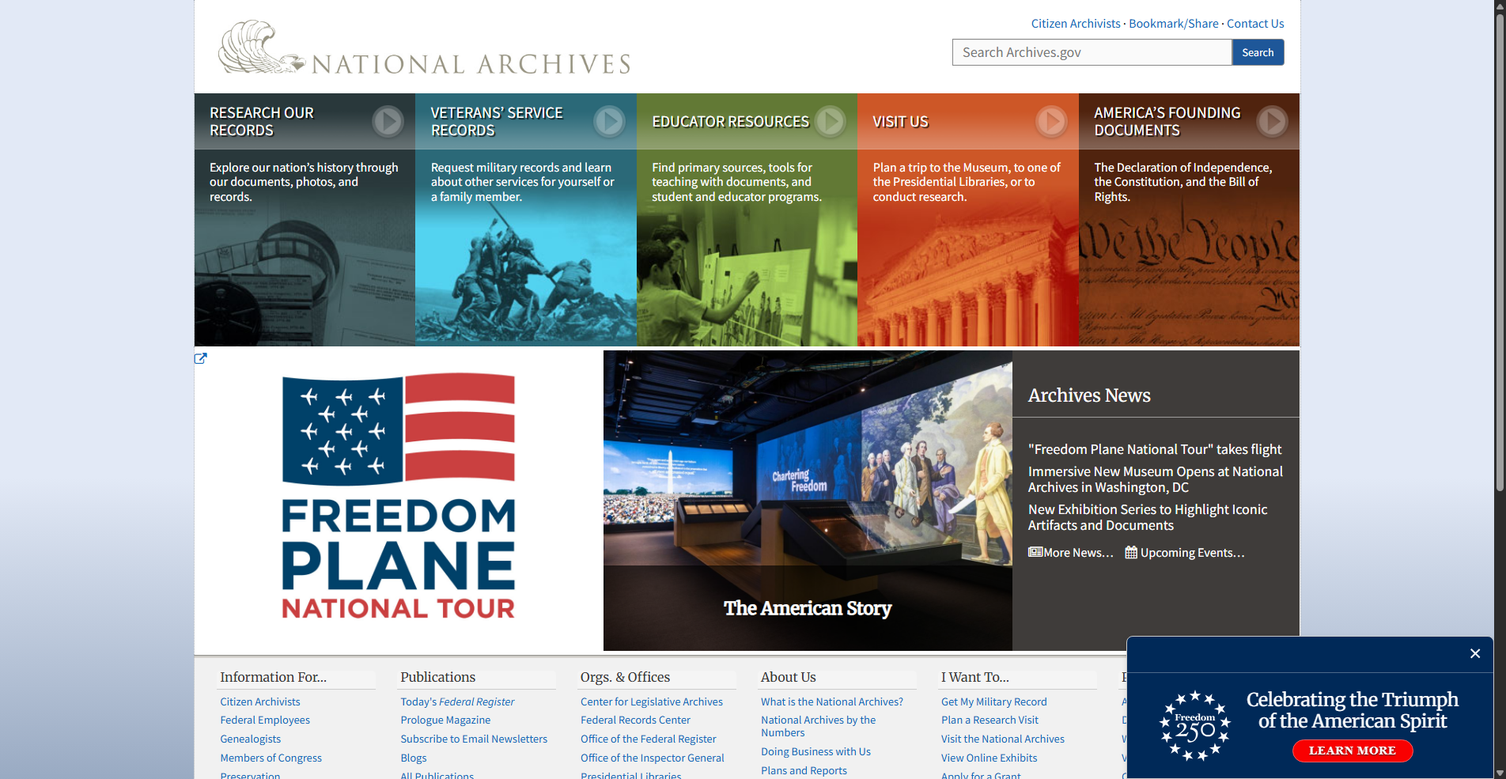button: (1094, 93, 1256, 149), (210, 93, 371, 149), (431, 93, 592, 149), (652, 93, 809, 149), (873, 93, 928, 149), (1232, 39, 1284, 66), (1466, 645, 1485, 664)
icon: (194, 353, 207, 366)
input: (952, 39, 1232, 66)
label: (952, 39, 991, 57)
link: (194, 351, 603, 651), (603, 351, 1012, 651), (636, 93, 858, 347), (194, 93, 415, 347), (415, 93, 636, 347), (858, 93, 1079, 347), (1079, 93, 1300, 347), (218, 20, 629, 74), (1028, 462, 1283, 496), (1028, 500, 1267, 533), (758, 711, 916, 743), (1028, 440, 1282, 458), (217, 692, 376, 711), (217, 711, 376, 730), (217, 730, 376, 749), (217, 749, 376, 768), (397, 692, 556, 711), (397, 711, 556, 730), (397, 730, 556, 749), (397, 749, 556, 768), (577, 692, 736, 711), (577, 711, 736, 730), (577, 730, 736, 749), (577, 749, 736, 768), (938, 692, 1097, 711), (938, 711, 1097, 730), (938, 730, 1097, 749), (938, 749, 1097, 768), (1118, 692, 1277, 711), (1118, 711, 1277, 730), (1118, 730, 1277, 749), (1118, 749, 1277, 768), (758, 692, 916, 711), (758, 743, 916, 762), (1293, 739, 1413, 762), (758, 762, 916, 779), (1125, 544, 1245, 560), (217, 768, 376, 779), (397, 768, 556, 779), (577, 768, 736, 779), (938, 768, 1097, 779), (1118, 768, 1277, 779), (220, 669, 327, 685), (1129, 15, 1219, 31), (1031, 15, 1120, 31), (581, 669, 670, 685), (1028, 544, 1114, 560), (400, 669, 476, 685), (941, 669, 1009, 685), (1122, 669, 1187, 685), (1227, 15, 1284, 31), (761, 669, 816, 685), (193, 0, 303, 1)
